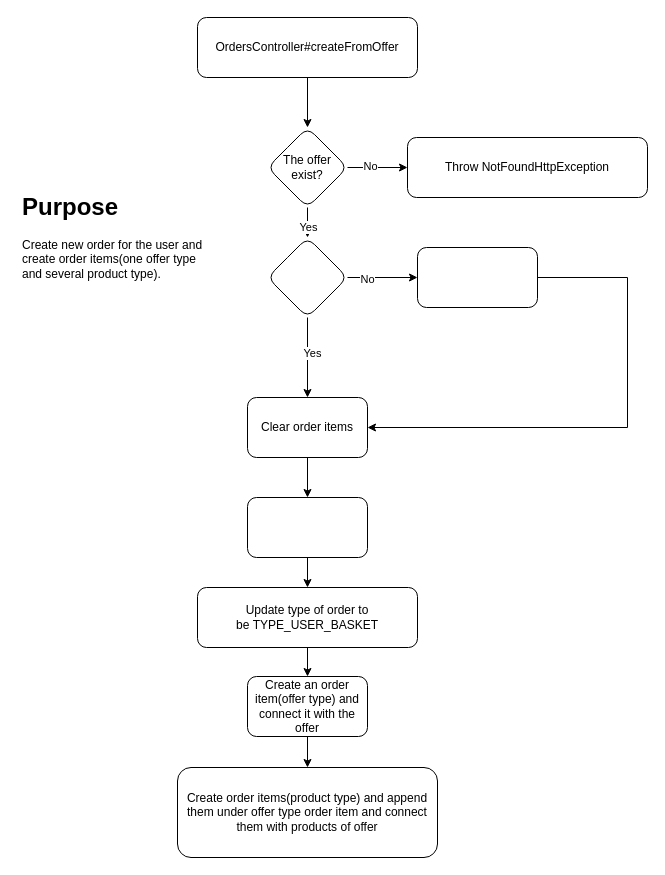
The diagram is 665 pixels wide and 875 high, and some of its shapes have lost their labels. Here are the shapes that lost their labels. From the top down, the centre of each, then its label:
the point at 307,277: User has unfinished order?
the point at 477,277: Create new order
the point at 307,527: Set status of order to be STATUS_DRAFT
